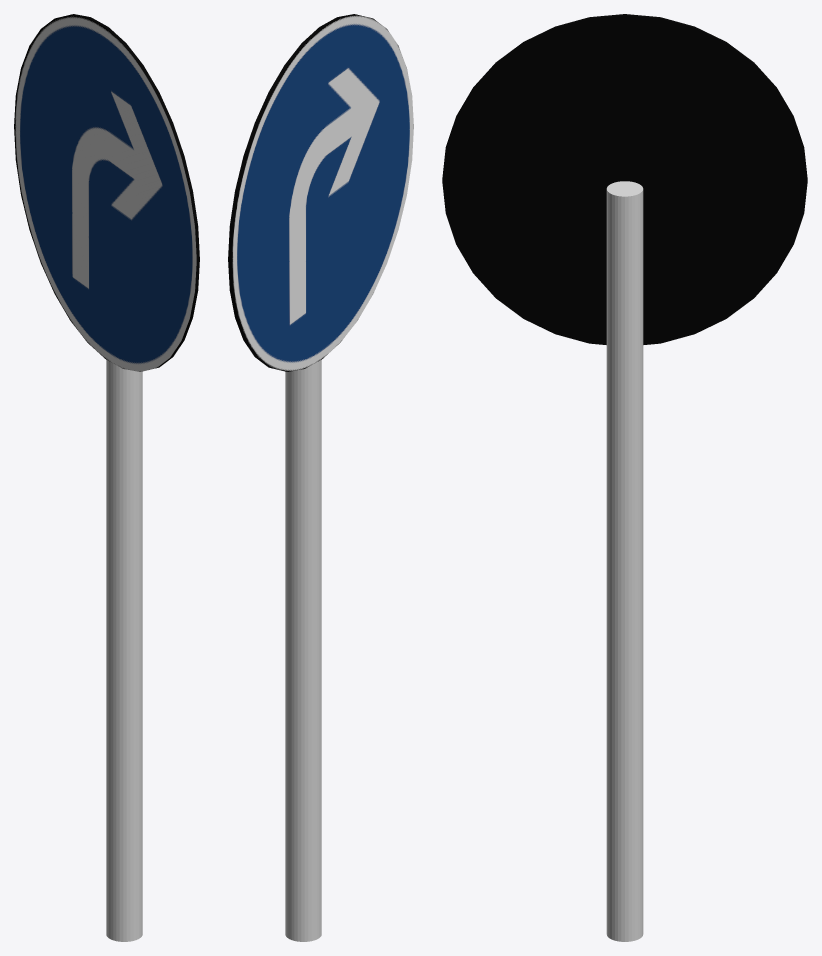
File: turn_right_sign.dae
The picture shows the model from 3 angles, left to right: view 1: azimuth 30°, elevation 25°; view 2: azimuth 150°, elevation 25°; view 3: azimuth 270°, elevation 25°; orthographic projection.
Visible parts, largest first — view 1: Circle, Cylinder; view 2: Circle, Cylinder; view 3: Circle, Cylinder.
Boxes of the visible parts, box(x1,y1,x2,y2) form: Circle: box(14, 14, 199, 371); Cylinder: box(106, 360, 142, 941); Circle: box(228, 14, 413, 371); Cylinder: box(285, 360, 321, 941); Circle: box(442, 14, 807, 344); Cylinder: box(606, 181, 643, 941).
Bounding box in the file's own units: 0.011 × 0.1 × 0.275.
Materials: 3 (2 with a texture image).
